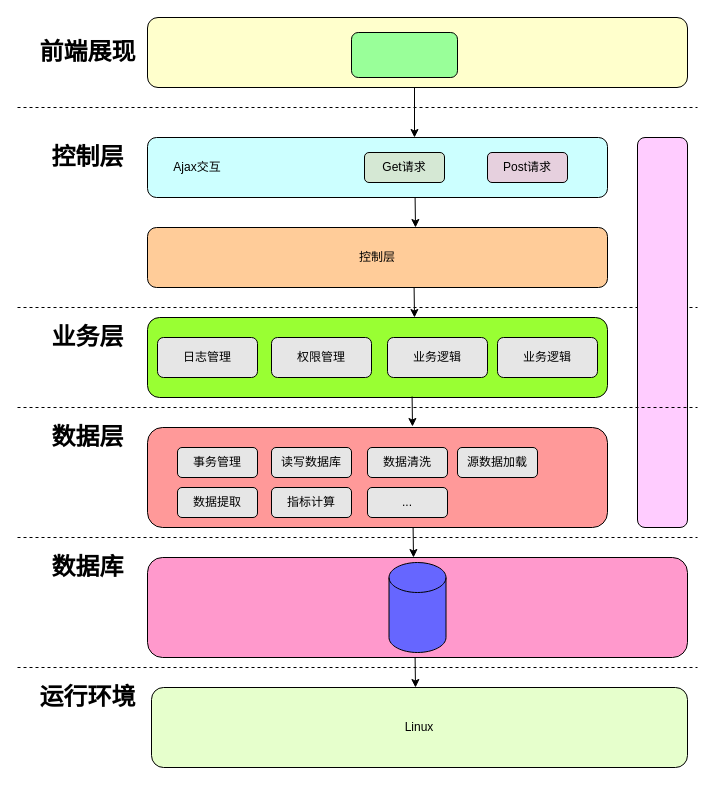
This 716x785 diagram has some shape labels left out. The box of each missing label's shape, as (x1, y1, x2, y2) in pixels:
DB2数据库: (388, 562, 446, 652)
WEB端: (350, 32, 458, 78)
权限控制: (636, 136, 688, 528)
